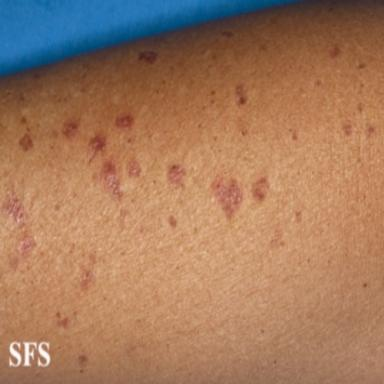Porokeratosis: (211, 179, 243, 219), (101, 160, 122, 201), (2, 191, 25, 226), (251, 176, 269, 201), (167, 164, 185, 188), (89, 133, 107, 156), (19, 235, 36, 258), (62, 117, 79, 138), (79, 269, 95, 290), (235, 83, 247, 107), (115, 114, 133, 128), (19, 133, 33, 151), (127, 160, 141, 177), (139, 51, 157, 63), (329, 45, 341, 59), (343, 124, 352, 136), (221, 30, 233, 38)
